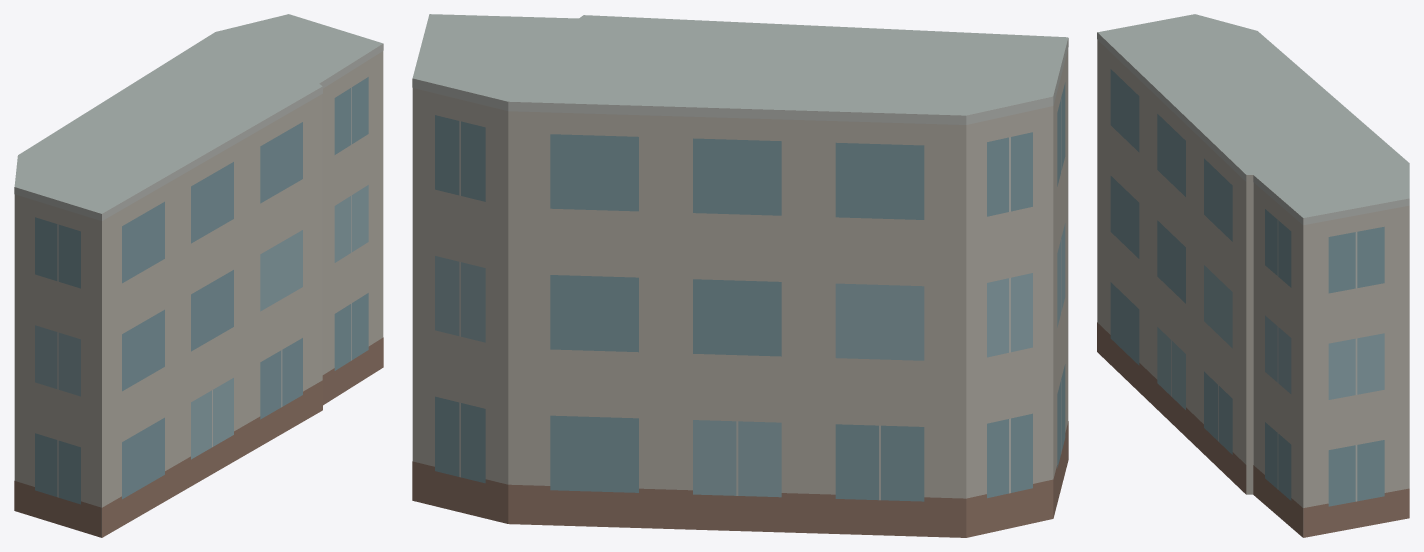
File: survey-upis-32480409.glb
The picture shows the model from 3 angles, left to right: view 1: azimuth 30°, elevation 25°; view 2: azimuth 150°, elevation 25°; view 3: azimuth 270°, elevation 25°; orthographic projection. The views are drawn at different scales.
Visible parts, largest first — view 1: survey-upis-32480409.tmp; view 2: survey-upis-32480409.tmp; view 3: survey-upis-32480409.tmp.
Part boxes in pixels (box(x1,y1,x2,y2)): survey-upis-32480409.tmp: box(14, 14, 383, 537); survey-upis-32480409.tmp: box(412, 14, 1068, 537); survey-upis-32480409.tmp: box(1097, 14, 1409, 537).
Size of the model in its own units: 14.93 by 10.9 by 9.66.
